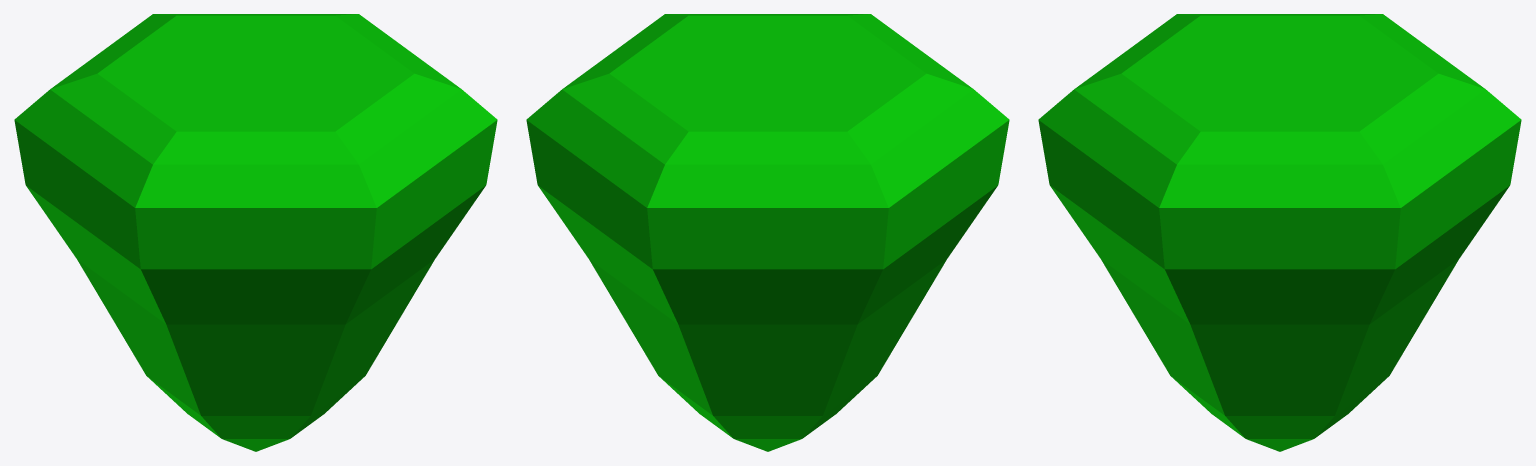
Rendered from Gem_MiniJam74Models.fbx.
3 views of the same model, side by side, from view 1: azimuth 30°, elevation 25°; view 2: azimuth 150°, elevation 25°; view 3: azimuth 270°, elevation 25° (orthographic).
Visible parts, largest first — view 1: Gem; view 2: Gem; view 3: Gem.
Boxes of the visible parts, x1,y1,x2,y2 form: Gem: (14, 14, 497, 451); Gem: (526, 14, 1009, 451); Gem: (1038, 14, 1521, 451).
Bounding box in the file's own units: 167 × 167 × 193.
